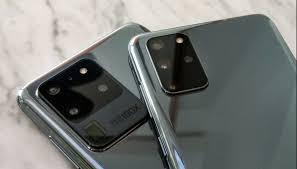Smartphone: (141, 17, 297, 169), (29, 40, 184, 169)
